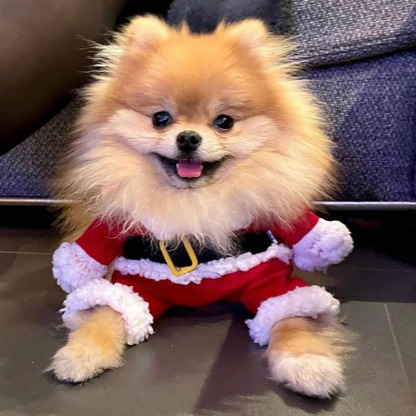Pomeranian: (35, 19, 366, 406)
